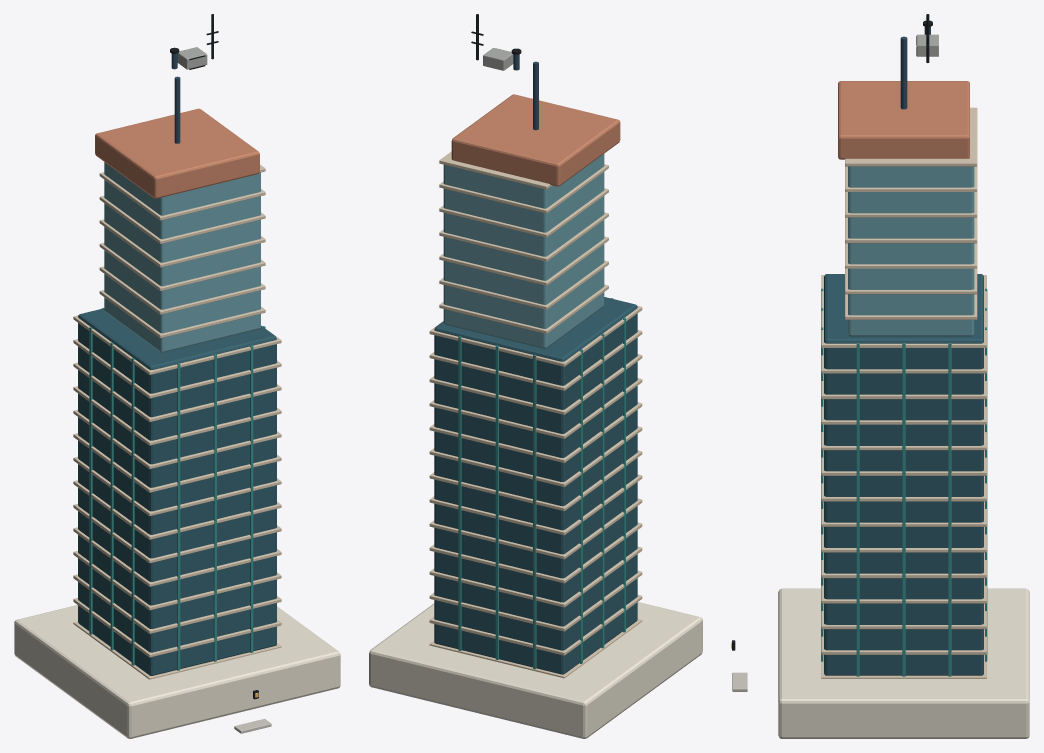
The model's file is RES_TOWER_3x3_002.glb.
3 renders of one model, left to right at view 1: azimuth 30°, elevation 25°; view 2: azimuth 150°, elevation 25°; view 3: azimuth 270°, elevation 25°, orthographic. The views are drawn at different scales.
Parts seen in each view (by area): view 1: RES_TOWER_3x3_002_Visual; view 2: RES_TOWER_3x3_002_Visual; view 3: RES_TOWER_3x3_002_Visual.
Part boxes in pixels (bbox=[...]): RES_TOWER_3x3_002_Visual: bbox=[14, 14, 340, 738]; RES_TOWER_3x3_002_Visual: bbox=[369, 14, 702, 738]; RES_TOWER_3x3_002_Visual: bbox=[731, 14, 1029, 738].
Size of what is drawn, in the model's own units: 4.55 by 13.02 by 5.08.
